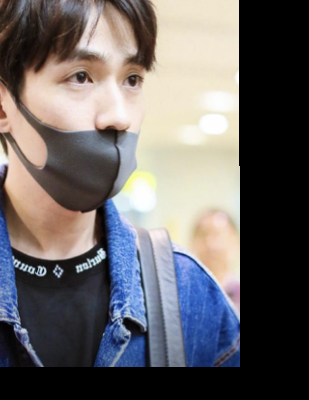mask_weared_incorrect: (1, 1, 168, 215)
